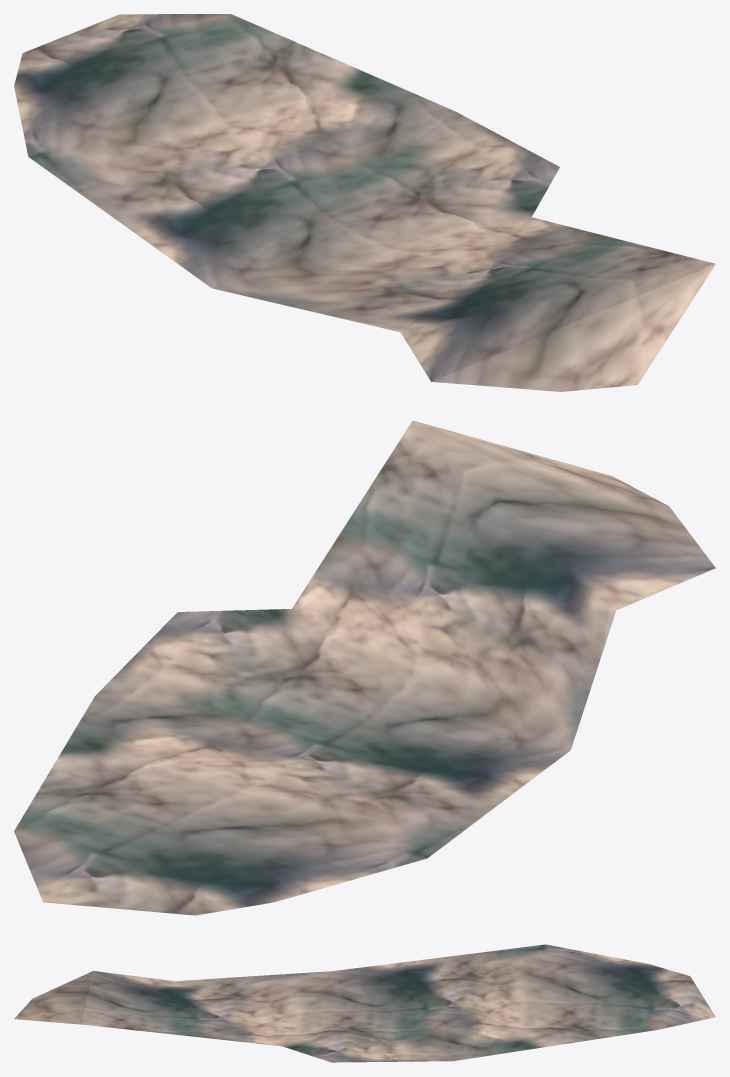
Rendered from Ridge_1_Top.gltf.
3 views of the same model, one above another, from view 1: azimuth 30°, elevation 25°; view 2: azimuth 150°, elevation 25°; view 3: azimuth 270°, elevation 25° (orthographic). The views are drawn at different scales.
Parts seen in each view (by area): view 1: Ridge_1_Top; view 2: Ridge_1_Top; view 3: Ridge_1_Top.
Part boxes in pixels (box(x1,y1,x2,y2)): Ridge_1_Top: box(14, 14, 715, 391); Ridge_1_Top: box(14, 420, 715, 915); Ridge_1_Top: box(14, 944, 715, 1062).
Bounding box in the file's own units: 34.11 × 6.88 × 80.14.
Materials: 1 (1 with a texture image).
